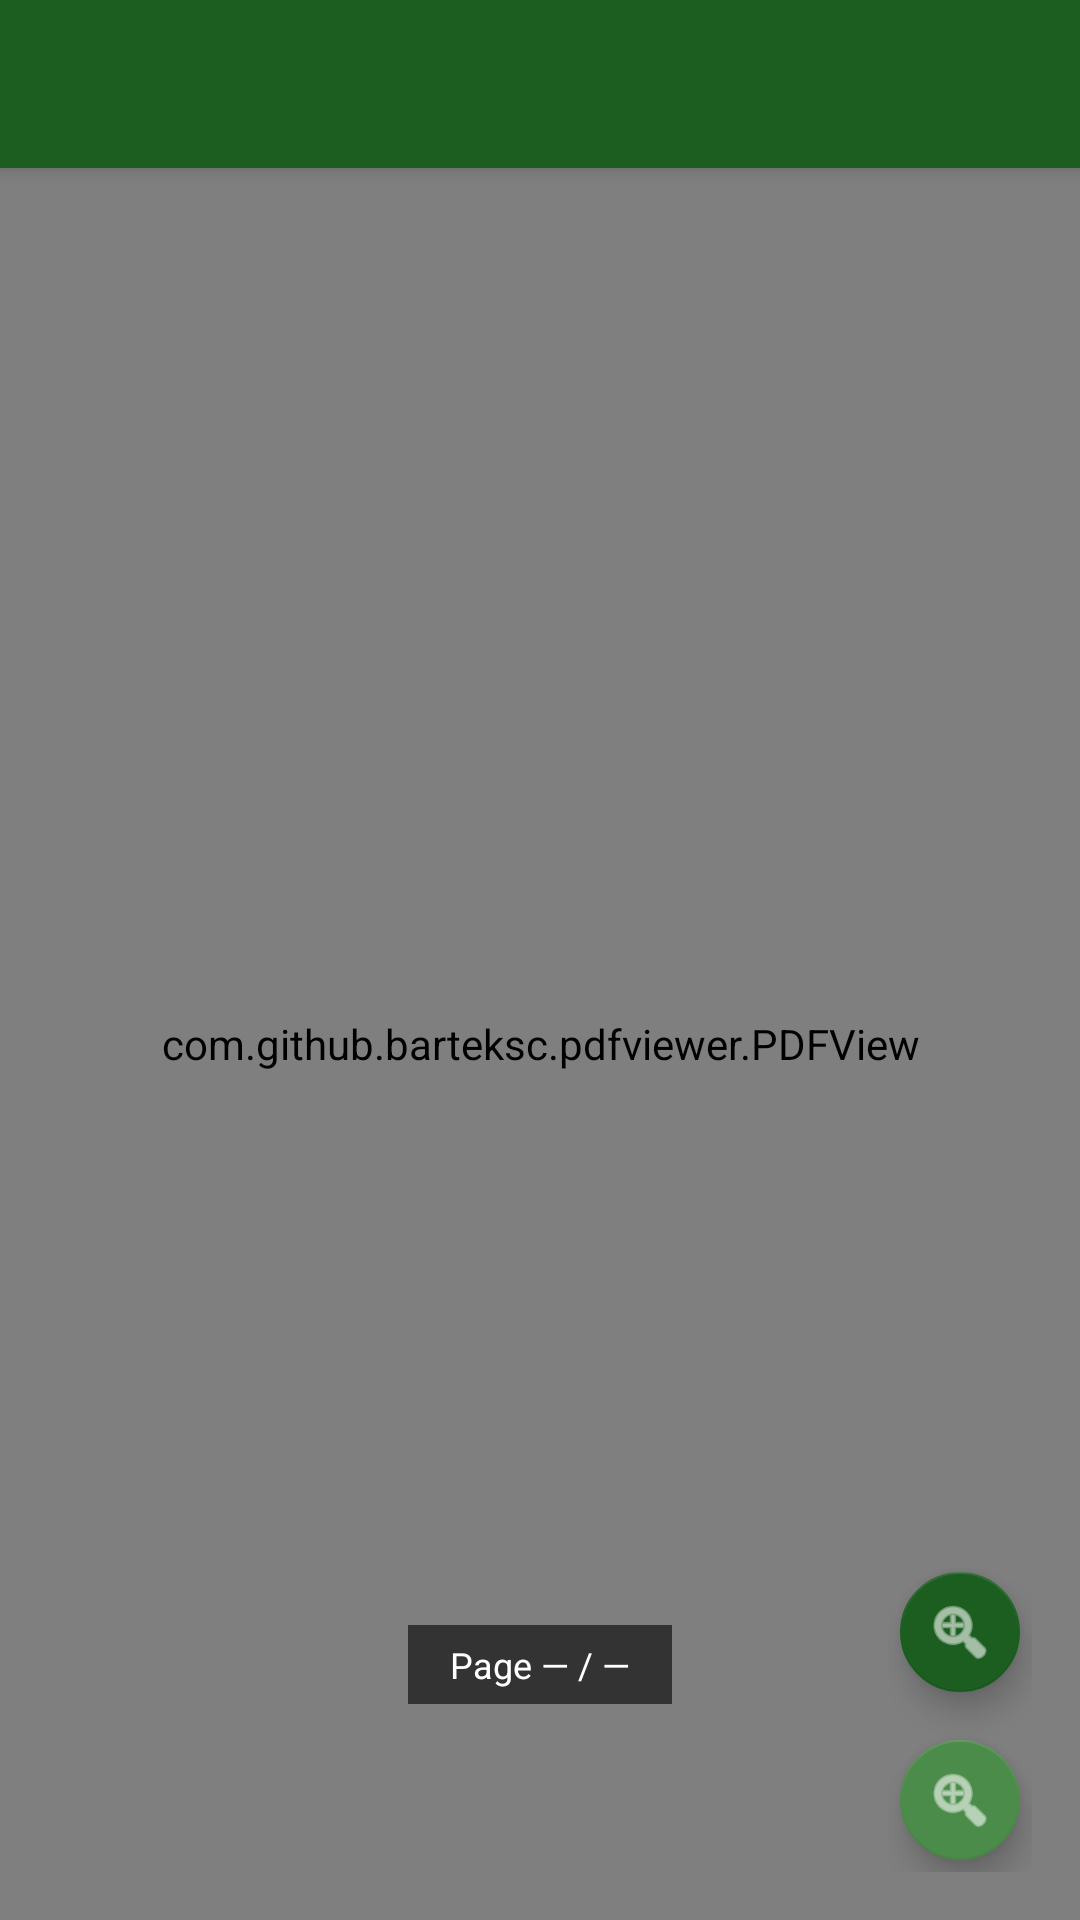

Screen size 1080 x 1920. Icon name, then its box in pixels as (x1, y1, x2, y2):
Zoom in: (900, 1572, 1020, 1692)
